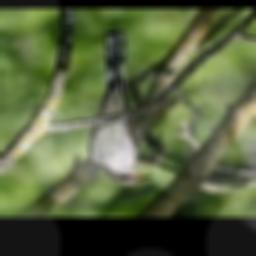Cuckoo: (89, 29, 152, 184)
